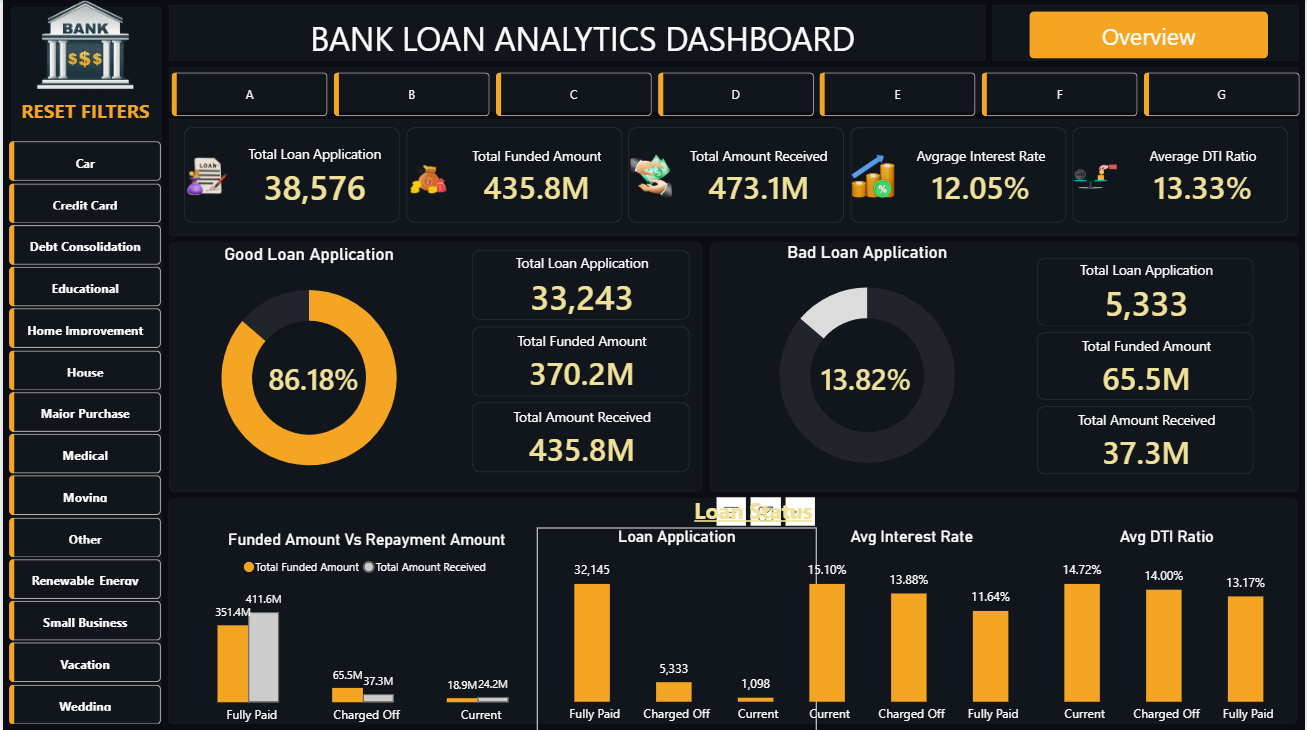

The dashboard page shown, as its layout file describes it:
{"tool":"powerbi","page":{"name":"Summary","canvas":[1280,720],"ordinal":0},"visuals":[{"type":"cardVisual","fields":{"Data":["financial_loan.Total Loan Application","financial_loan.Total Funded Amount","financial_loan.Total Amount Received","financial_loan.Avg Int Rate","financial_loan.Avg DTI Rate"]},"box":[160.7,108,1119,128.8],"z":0},{"type":"donutChart","title":"Good Loan Application","fields":{"Category":["financial_loan.Good_Vs_Bad_Loan"],"Y":["financial_loan.Total Loan Application"]},"box":[169.3,239.3,262.6,244.2],"z":1000},{"type":"donutChart","title":"Bad Loan Application","fields":{"Category":["financial_loan.Good_Vs_Bad_Loan"],"Y":["financial_loan.Total Loan Application"]},"box":[720.2,236.8,256.4,244.2],"z":2000},{"type":"cardVisual","fields":{"Data":["_Measures.Good Loan %"]},"box":[169.3,319,231.9,103.1],"z":3000},{"type":"cardVisual","fields":{"Data":["_Measures.Bad Loan %"]},"box":[711.7,319,231.9,103.1],"z":4000},{"type":"cardVisual","fields":{"Data":["financial_loan.Total Loan Application","financial_loan.Total Funded Amount","financial_loan.Total Amount Received"],"Rows":["financial_loan.Good_Vs_Bad_Loan"]},"box":[423.3,177.9,288.3,305.5],"z":5000},{"type":"cardVisual","fields":{"Data":["financial_loan.Total Loan Application","financial_loan.Total Funded Amount","financial_loan.Total Amount Received"],"Rows":["financial_loan.Good_Vs_Bad_Loan"]},"box":[977.9,154.6,287.1,330.1],"z":6000},{"type":"clusteredColumnChart","title":"Funded Amount Vs Repayment Amount","fields":{"Category":["financial_loan.LOAN_STATUS"],"Y":["_Measures.Total Funded Amount","_Measures.Total Amount Received"]},"box":[160.7,520.2,392.6,198.8],"z":7000},{"type":"clusteredColumnChart","title":"Loan Application","fields":{"Category":["financial_loan.LOAN_STATUS"],"Y":["_Measures.Total Loan Application"]},"box":[523.9,517.8,274.8,201.2],"z":8000},{"type":"textbox","box":[673.6,481,144.8,40.5],"z":9000},{"type":"clusteredColumnChart","title":"Avg Interest Rate","fields":{"Category":["financial_loan.LOAN_STATUS"],"Y":["_Measures.Avgrage Interest Rate"]},"box":[754.6,517.8,274.8,201.2],"z":10000},{"type":"clusteredColumnChart","title":"Avg DTI Ratio","fields":{"Category":["financial_loan.LOAN_STATUS"],"Y":["_Measures.Average DTI Ratio"]},"box":[1004.9,517.8,274.8,201.2],"z":11000},{"type":"image","box":[1.2,0,159.5,87.1],"z":12000},{"type":"advancedSlicerVisual","fields":{"Values":["financial_loan.PURPOSE"]},"box":[1.2,133.7,159.5,586.5],"z":13000},{"type":"advancedSlicerVisual","fields":{"Values":["financial_loan.GRADE"]},"box":[160.7,66.3,1119,54],"z":14000},{"type":"actionButton","box":[8.6,93.3,144.8,29.4],"z":15000},{"type":"textbox","box":[255.2,11,627,55.2],"z":16000},{"type":"actionButton","box":[1007.4,11,234.4,46.6],"z":17000}]}

Visuals, with their boxes in screenshot pixels (x1, y1, x2, y2), scaled from the page's 1280x720 canvas onto the 1307x730 screenshot:
cardVisual - financial_loan.Total Loan Application x financial_loan.Total Funded Amount: [164,110,1306,240]
"Good Loan Application" donutChart: [173,243,441,490]
"Bad Loan Application" donutChart: [735,240,997,488]
cardVisual - _Measures.Good Loan %: [173,323,410,428]
cardVisual - _Measures.Bad Loan %: [727,323,964,428]
cardVisual - financial_loan.Total Loan Application x financial_loan.Total Funded Amount: [432,180,727,490]
cardVisual - financial_loan.Total Loan Application x financial_loan.Total Funded Amount: [999,157,1292,491]
"Funded Amount Vs Repayment Amount" clusteredColumnChart: [164,527,565,729]
"Loan Application" clusteredColumnChart: [535,525,816,729]
textbox: [688,488,836,529]
"Avg Interest Rate" clusteredColumnChart: [771,525,1051,729]
"Avg DTI Ratio" clusteredColumnChart: [1026,525,1306,729]
image: [1,0,164,88]
advancedSlicerVisual - financial_loan.PURPOSE: [1,136,164,729]
advancedSlicerVisual - financial_loan.GRADE: [164,67,1306,122]
actionButton: [9,95,157,124]
textbox: [261,11,901,67]
actionButton: [1029,11,1268,58]
